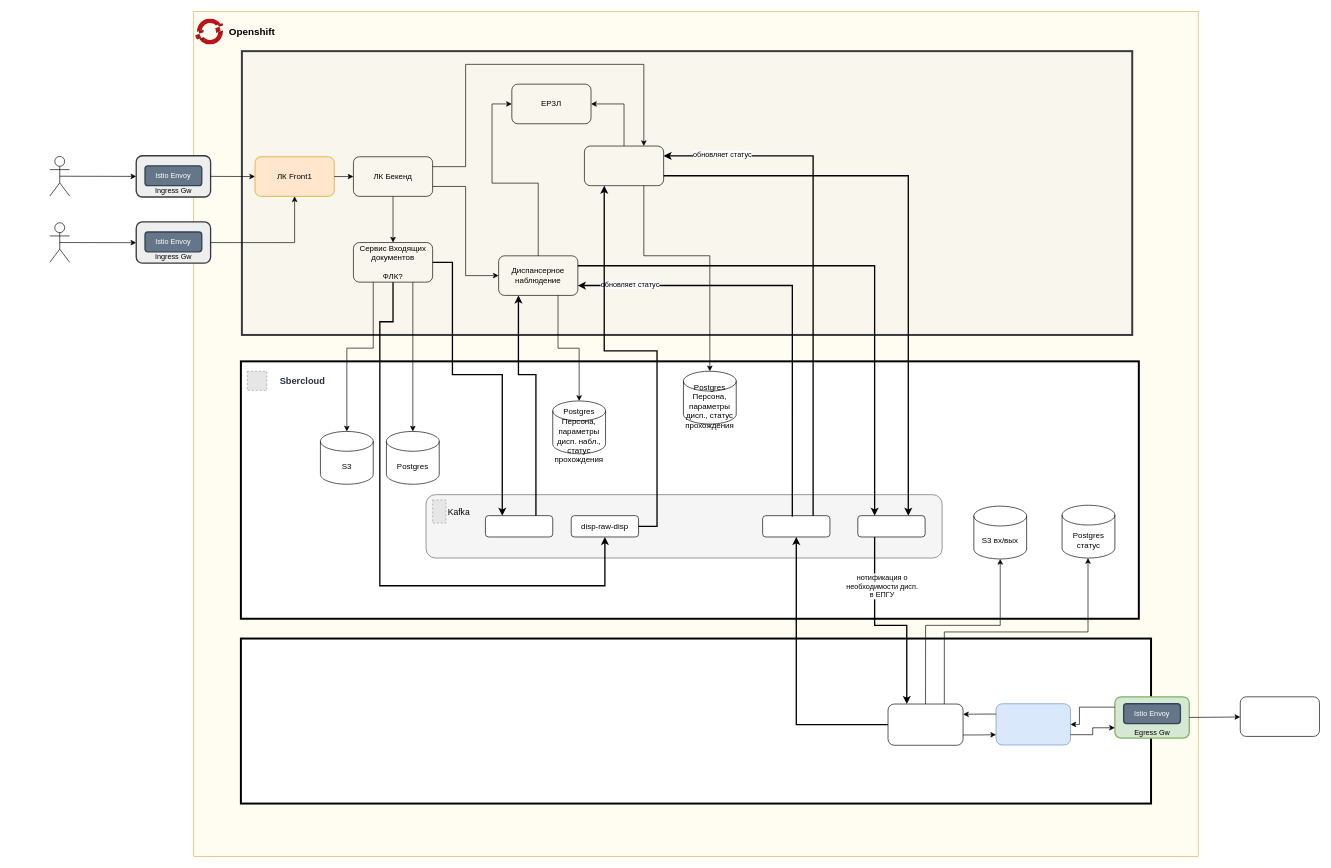
Some shapes in this 1331 by 868 pixel diagram are drawn without their labels. Grey dashed boxes stand in for pictures. The shapes that lost their labels are listed below. From the top down, each one's box as (x1, y1, x2, y2) in pixels, then its label:
(49, 156, 70, 196): Сотрудник ФОМС/ТФОМС
(584, 145, 664, 186): Диспансеризация
(49, 222, 70, 262): Сотрудник СМО
(485, 515, 553, 537): disp-raw-disp-observ
(762, 515, 830, 537): disp-epgu-in
(857, 515, 925, 537): disp-epgu-out
(887, 703, 963, 745): Сервис взаимодействия с ЕПГУ
(995, 703, 1070, 745): Адаптер СМЭВ (Гостех)
(1240, 696, 1319, 736): ЕПГУ
